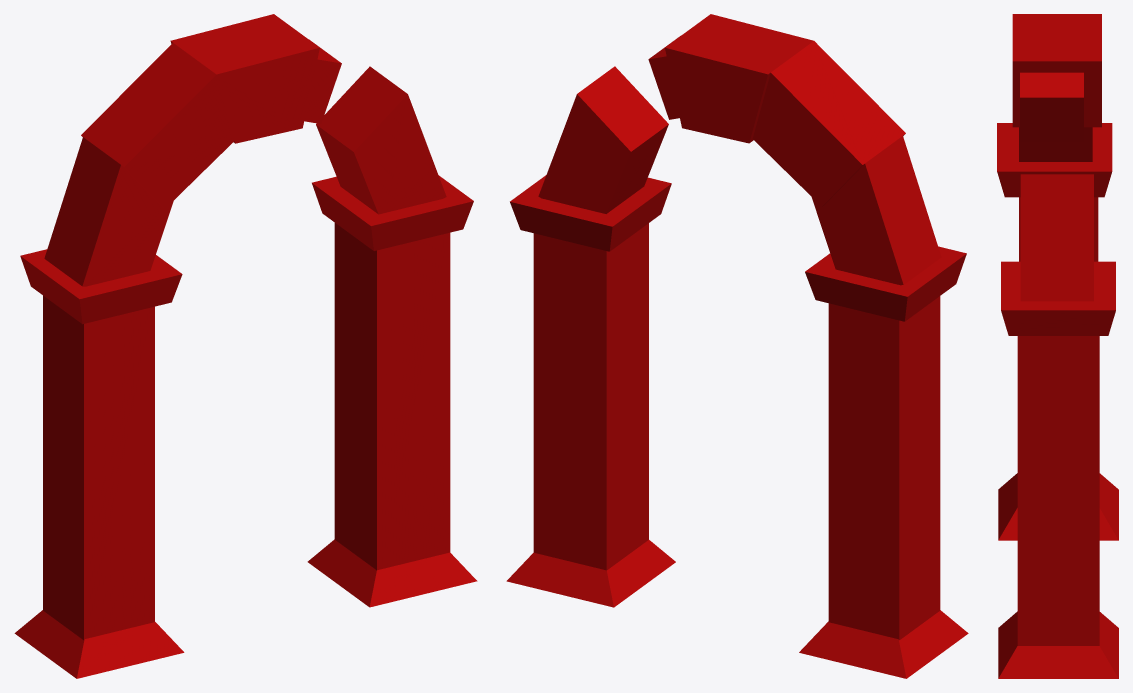
File: SM_Bld_Ruins_Archway_01_Collision.gltf
3 views of the same model, side by side, from view 1: azimuth 30°, elevation 25°; view 2: azimuth 150°, elevation 25°; view 3: azimuth 270°, elevation 25° (orthographic). The views are drawn at different scales.
Parts seen in each view (by area): view 1: SM_Bld_Ruins_Archway_01_Collision; view 2: SM_Bld_Ruins_Archway_01_Collision; view 3: SM_Bld_Ruins_Archway_01_Collision.
Boxes of the visible parts, box(x1,y1,x2,y2) form: SM_Bld_Ruins_Archway_01_Collision: box(14, 14, 477, 678); SM_Bld_Ruins_Archway_01_Collision: box(506, 14, 968, 678); SM_Bld_Ruins_Archway_01_Collision: box(997, 14, 1118, 678).
Bounding box in the file's own units: 6.52 × 8.82 × 1.77.
